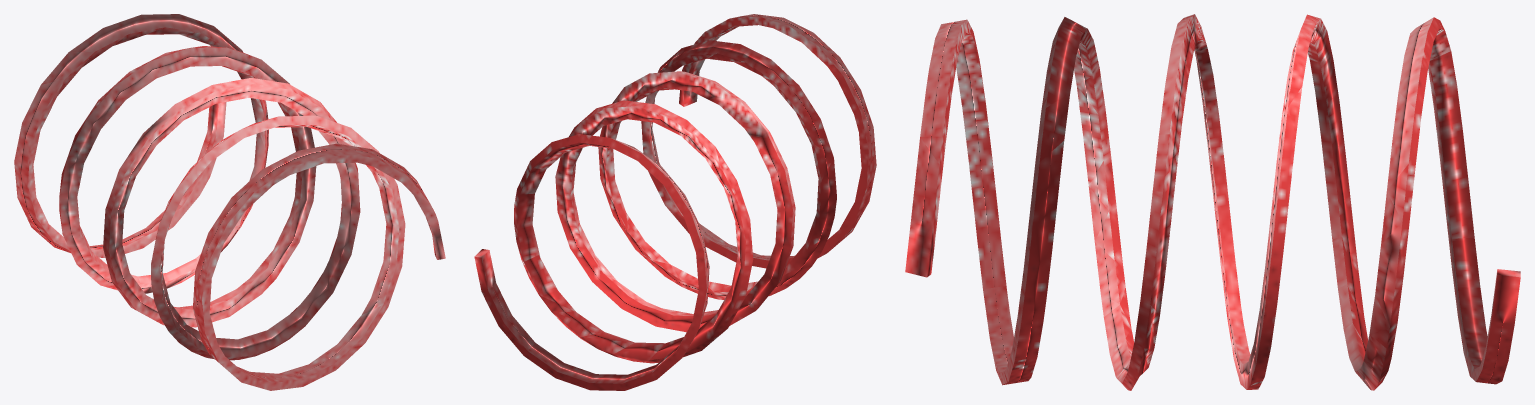
The model's file is SpeedCoil.obj.
The picture shows the model from 3 angles, left to right: view 1: azimuth 30°, elevation 25°; view 2: azimuth 150°, elevation 25°; view 3: azimuth 270°, elevation 25°; orthographic projection. The views are drawn at different scales.
Parts seen in each view (by area): view 1: Speed Coil; view 2: Speed Coil; view 3: Speed Coil.
Part boxes in pixels (bbox=[...]): Speed Coil: bbox=[14, 14, 445, 390]; Speed Coil: bbox=[474, 14, 876, 390]; Speed Coil: bbox=[905, 14, 1520, 390].
Bounding box in the file's own units: 1.4 × 1.49 × 2.4.
1 material, 1 textured.
